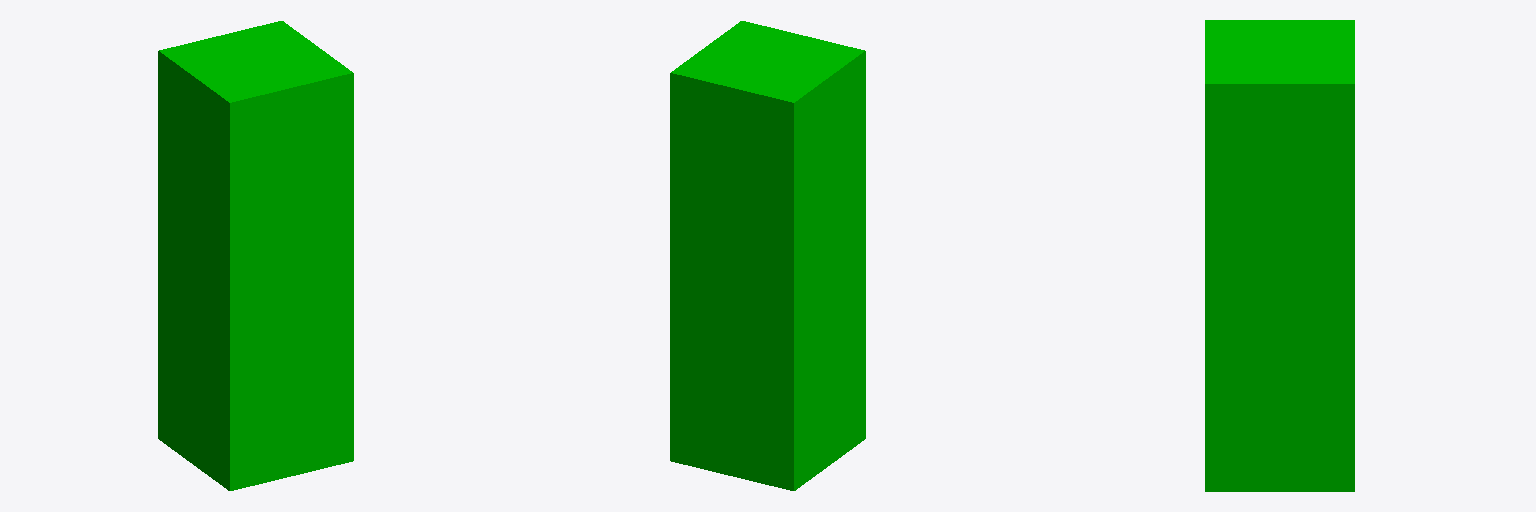
robot.urdf — obstaculo_fijo:
<?xml version="1.0"?>
<robot name="obstaculo_fijo">

 	<link name="base_link">
        <collision>
        <origin xyz="0 0.0 0.6" rpy="0 0 0"/>
            <geometry>
                <box size="0.4 0.4 1.1"/>
            </geometry>
  <material name="green">
    <color rgba="0.0 0.8 0.0 1.0"/>
  </material>
    </collision>
    <inertial>
            <mass value="1.0"/>
            <inertia ixx="0.015" iyy="0.0375" izz="0.0375" ixy="0" ixz="0" iyz="0"/>
        </inertial>  
		<visual>
		    <origin xyz="0 0.0 0.6" rpy="0 0 0"/>
			<geometry>
				<box size="0.4 0.4 1.2"/>
			</geometry>
  <material name="green">
    <color rgba="0.0 0.8 0.0 1.0"/>
  </material>
		</visual>	
	</link>

	  <gazebo reference="base_link">
    <material>Gazebo/Green</material>
  </gazebo>
</robot>

--- What the picture shows (computed from the rendered views, not written in the file) ---
The picture shows the robot from 3 angles, left to right: view 1: azimuth 30°, elevation 25°; view 2: azimuth 150°, elevation 25°; view 3: azimuth 270°, elevation 25°; orthographic projection.
Robot: obstaculo_fijo — 1 links, 0 joints (none); root link base_link; default pose: every joint at zero.
Visible links, largest first — view 1: base_link; view 2: base_link; view 3: base_link.
Link boxes in pixels (x1,y1,x2,y2): base_link: (158,21,353,490); base_link: (670,21,865,490); base_link: (1205,20,1354,491).
Size in the robot's own frame: 0.4 by 0.4 by 1.2 metres.
Geometry: primitives only (box / cylinder / sphere), no mesh files.